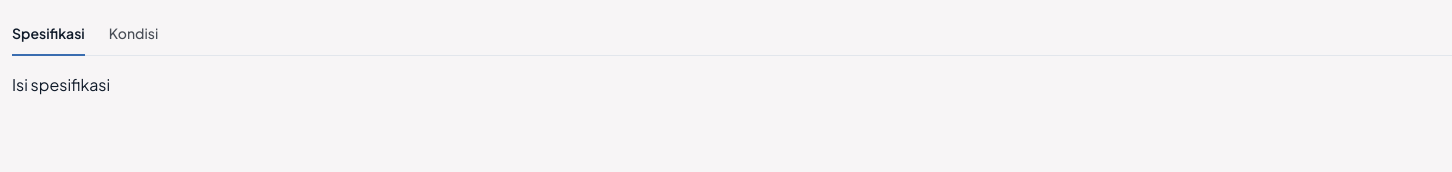
Test: Tabs and Accordion › moves between tabs with arrow keys
Click the tab "Spesifikasi" at [48, 34], box [12,12,85,56]
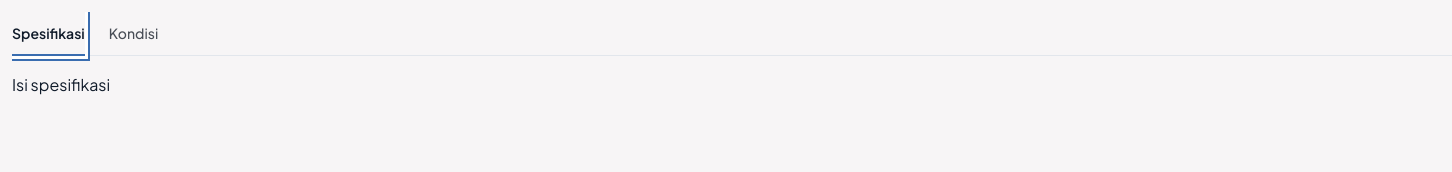
Press Arrowright
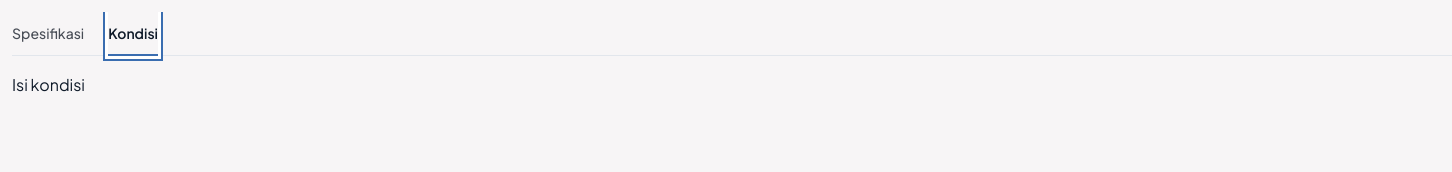
Now the panel reads "Isi kondisi", box [12,74,85,95]
